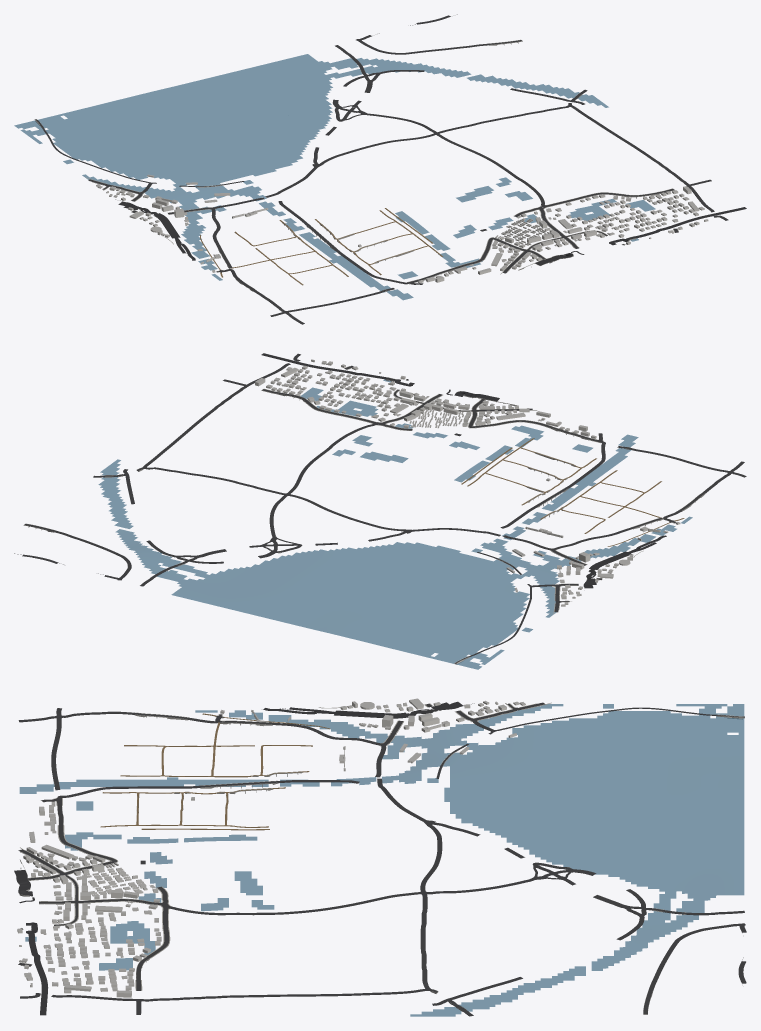
File: chunk_7_3.glb
3 views of the same model, one above another, from view 1: azimuth 30°, elevation 25°; view 2: azimuth 150°, elevation 25°; view 3: azimuth 270°, elevation 25° (orthographic). The views are drawn at different scales.
Visible parts, largest first — view 1: Water_7_3, Roads_7_3, Filler_7_3, RoadSides_7_3, Buildings_7_3; view 2: Water_7_3, Roads_7_3, Filler_7_3, RoadSides_7_3, Buildings_7_3; view 3: Water_7_3, Roads_7_3, Filler_7_3, RoadSides_7_3, Buildings_7_3.
Boxes of the visible parts, x1=… form: Water_7_3: x1=14, y1=54, x2=655, y2=300; Roads_7_3: x1=35, y1=14, x2=746, y2=324; Filler_7_3: x1=96, y1=184, x2=704, y2=282; RoadSides_7_3: x1=34, y1=39, x2=678, y2=291; Buildings_7_3: x1=35, y1=120, x2=708, y2=283; Water_7_3: x1=98, y1=379, x2=692, y2=669; Roads_7_3: x1=14, y1=353, x2=746, y2=663; Filler_7_3: x1=255, y1=361, x2=633, y2=606; RoadSides_7_3: x1=23, y1=366, x2=704, y2=664; Buildings_7_3: x1=311, y1=359, x2=680, y2=664; Water_7_3: x1=19, y1=704, x2=744, y2=1016; Roads_7_3: x1=14, y1=701, x2=746, y2=1016; Filler_7_3: x1=17, y1=700, x2=525, y2=997; RoadSides_7_3: x1=14, y1=702, x2=744, y2=1014; Buildings_7_3: x1=30, y1=698, x2=742, y2=987.
Bounding box in the file's own units: 2082 × 46.78 × 2071.
